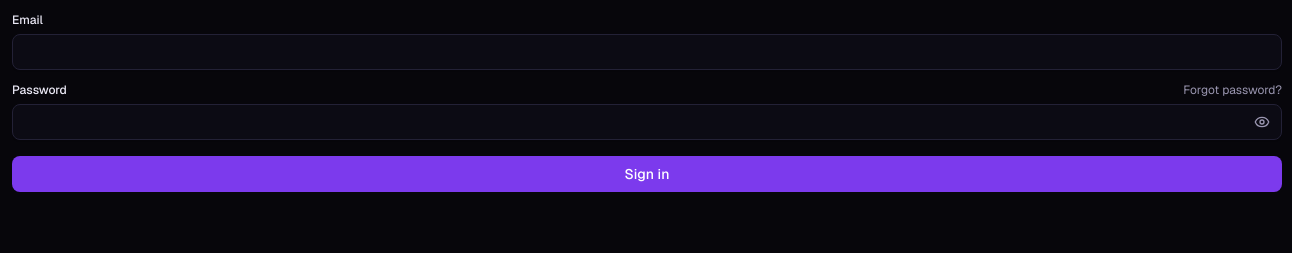
Scenario: SignInForm › blocks invalid form values before network submission
Click the button "Sign in". click: (647, 174)
box: [12,156,1282,192]
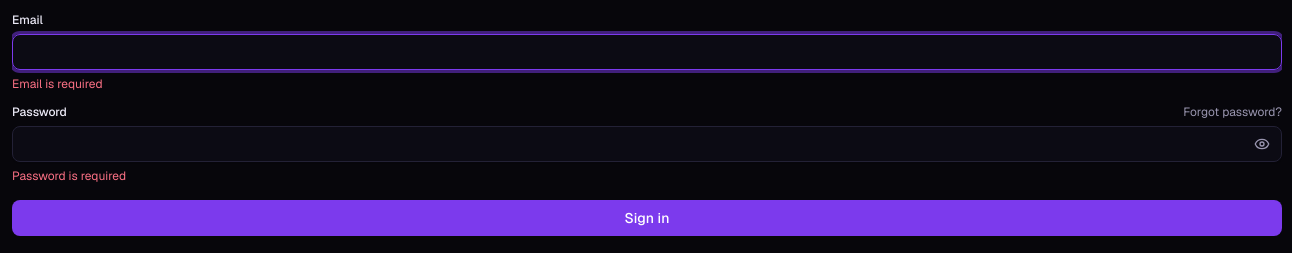
Now the text "Email is required" is shown, box [12,76,103,92]
